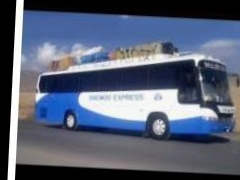bus: (34, 37, 236, 143)
